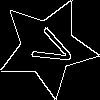V: (22, 22, 78, 73)
